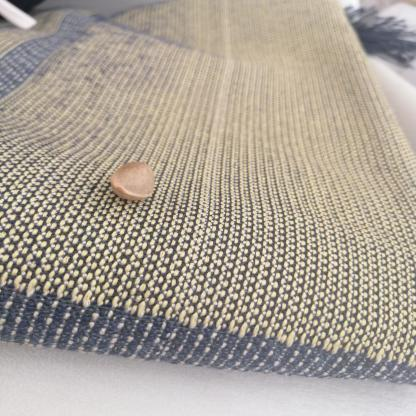pistachio: (107, 158, 158, 202)
